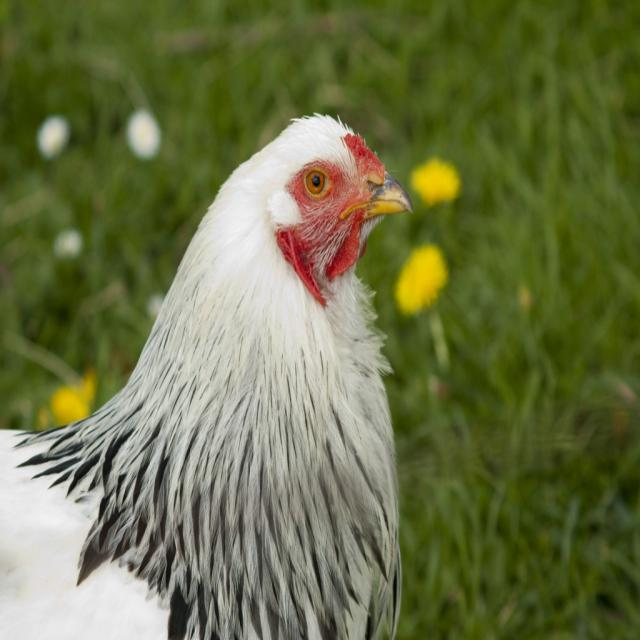Chicken: (0, 112, 414, 640)
